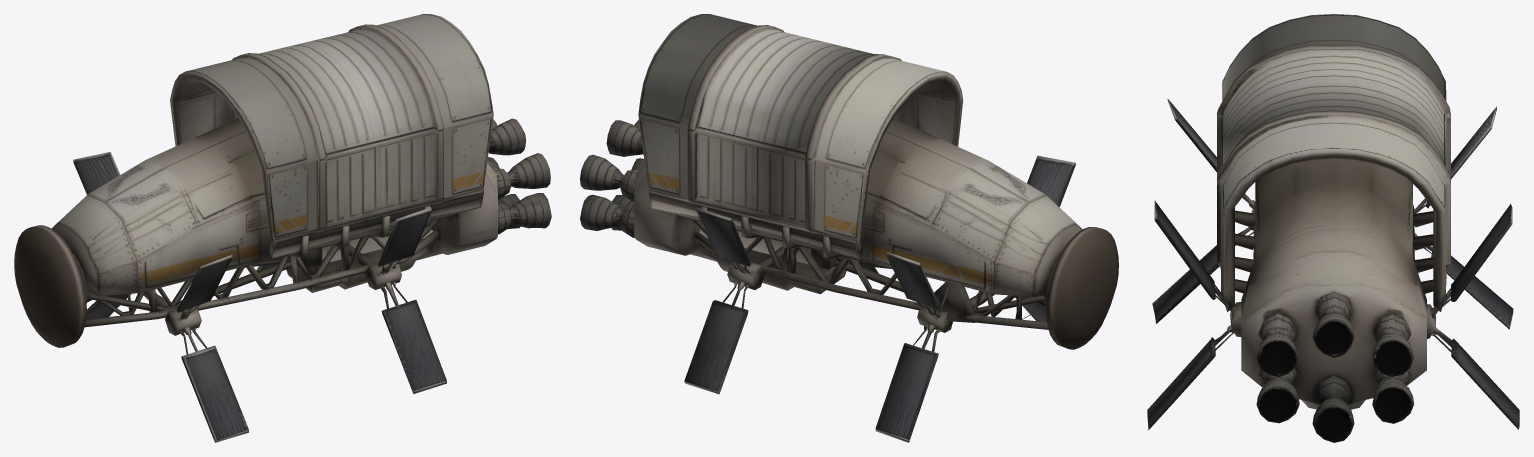
File: original_glb.glb
The picture shows the model from 3 angles, left to right: view 1: azimuth 30°, elevation 25°; view 2: azimuth 150°, elevation 25°; view 3: azimuth 270°, elevation 25°; orthographic projection. The views are drawn at different scales.
Parts seen in each view (by area): view 1: Conestoga Fusion Hauler; view 2: Conestoga Fusion Hauler; view 3: Conestoga Fusion Hauler.
Boxes of the visible parts, x1,y1,x2,y2 form: Conestoga Fusion Hauler: (14, 14, 551, 442); Conestoga Fusion Hauler: (580, 14, 1118, 442); Conestoga Fusion Hauler: (1147, 14, 1519, 442).
Bounding box in the file's own units: 0.998 × 0.5723 × 0.5723.
Materials: 1 (1 with a texture image).
